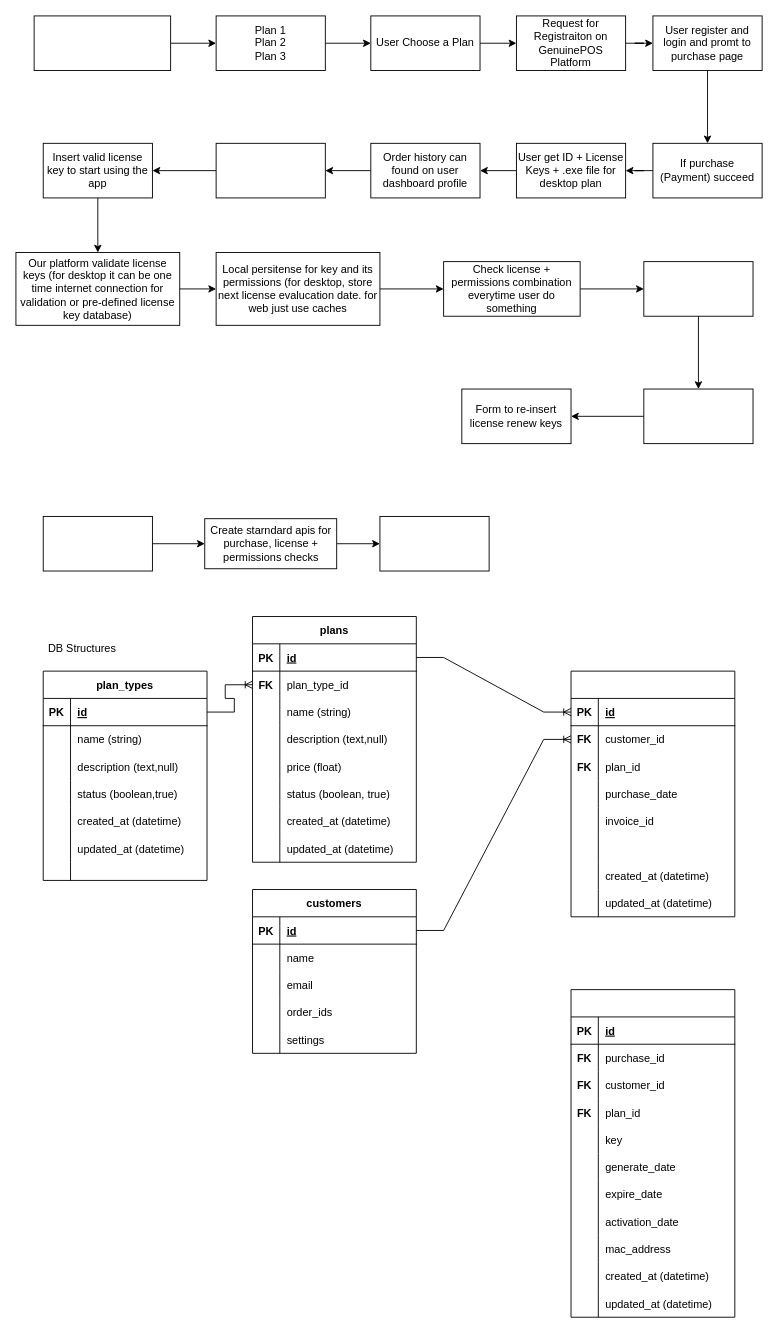
Some shapes in this 778 by 1333 pixel diagram are drawn without their labels. Each missing label, with the box of its shape:
Create secure license keys and store with hashing(encryption): (379, 516, 489, 571)
Disable software features and promt a license renew page (web) if license expire: (643, 388, 753, 444)
license_keys: (570, 989, 735, 1317)
purchases: (570, 670, 735, 917)
Technical Workflow: (42, 516, 152, 571)
User go to POS web/desktop app: (215, 142, 325, 198)
User go to the GenuinePOS Website: (33, 15, 171, 71)
Warn user for next license evaluation: (643, 261, 753, 316)
